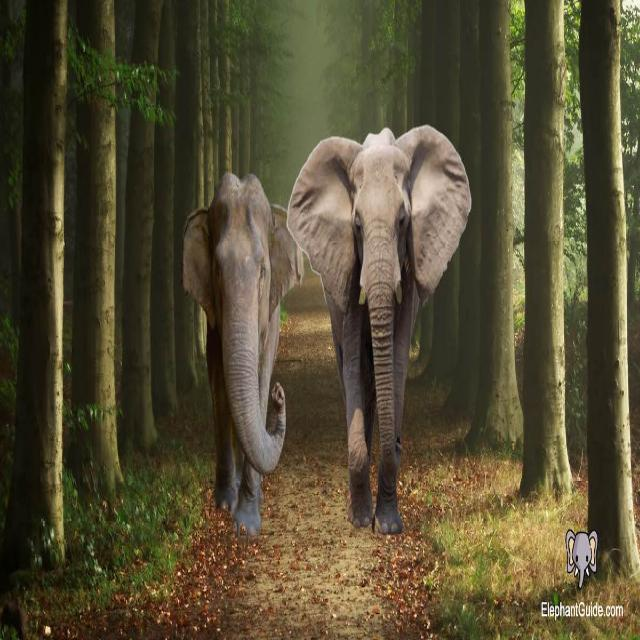Elephant: (294, 118, 468, 530), (180, 164, 292, 530)
